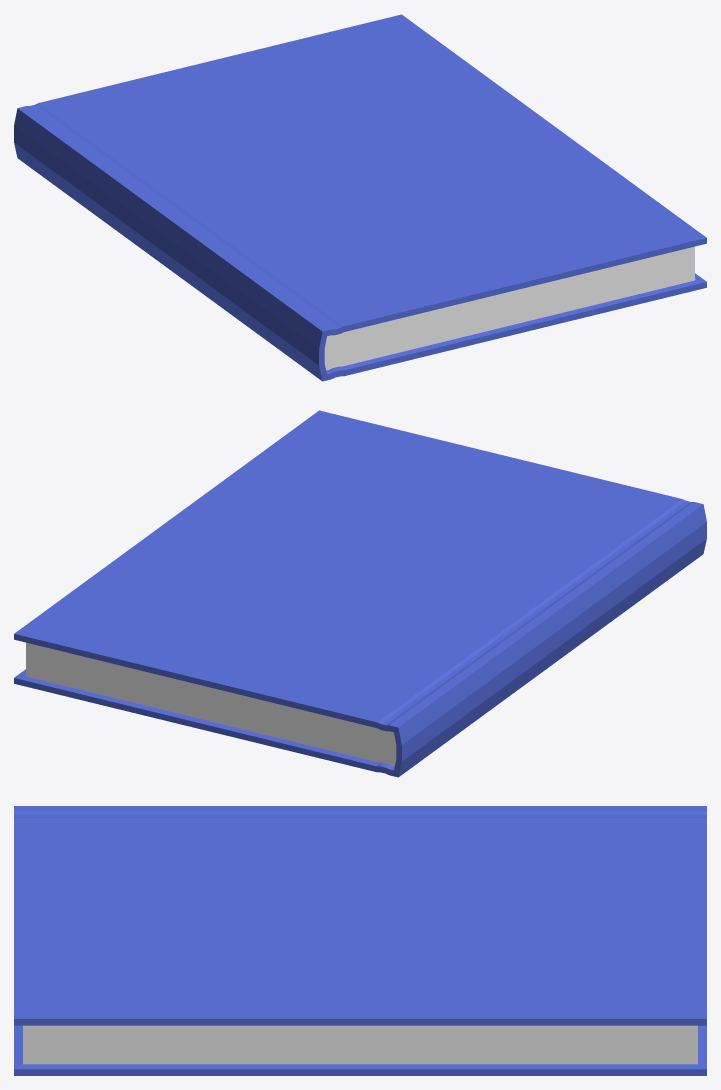
File: Architexturebook 1.fbx
3 views of the same model, one above another, from view 1: azimuth 30°, elevation 25°; view 2: azimuth 150°, elevation 25°; view 3: azimuth 270°, elevation 25° (orthographic). The views are drawn at different scales.
Visible parts, largest first — view 1: Architexture; view 2: Architexture; view 3: Architexture.
Part boxes in pixels (bbox=[...]): Architexture: bbox=[14, 14, 706, 381]; Architexture: bbox=[14, 410, 706, 777]; Architexture: bbox=[14, 806, 706, 1075].
Bounding box in the file's own units: 73.38 × 9.04 × 100.
